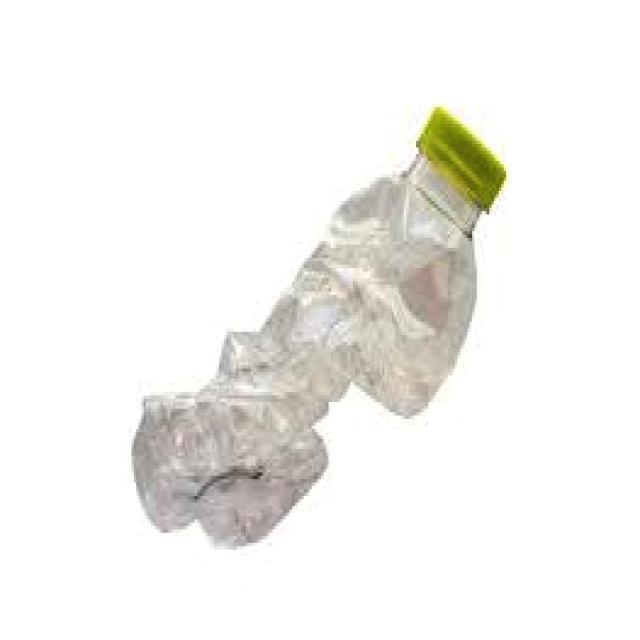bottle: (126, 101, 515, 552)
cap: (406, 102, 523, 225)
